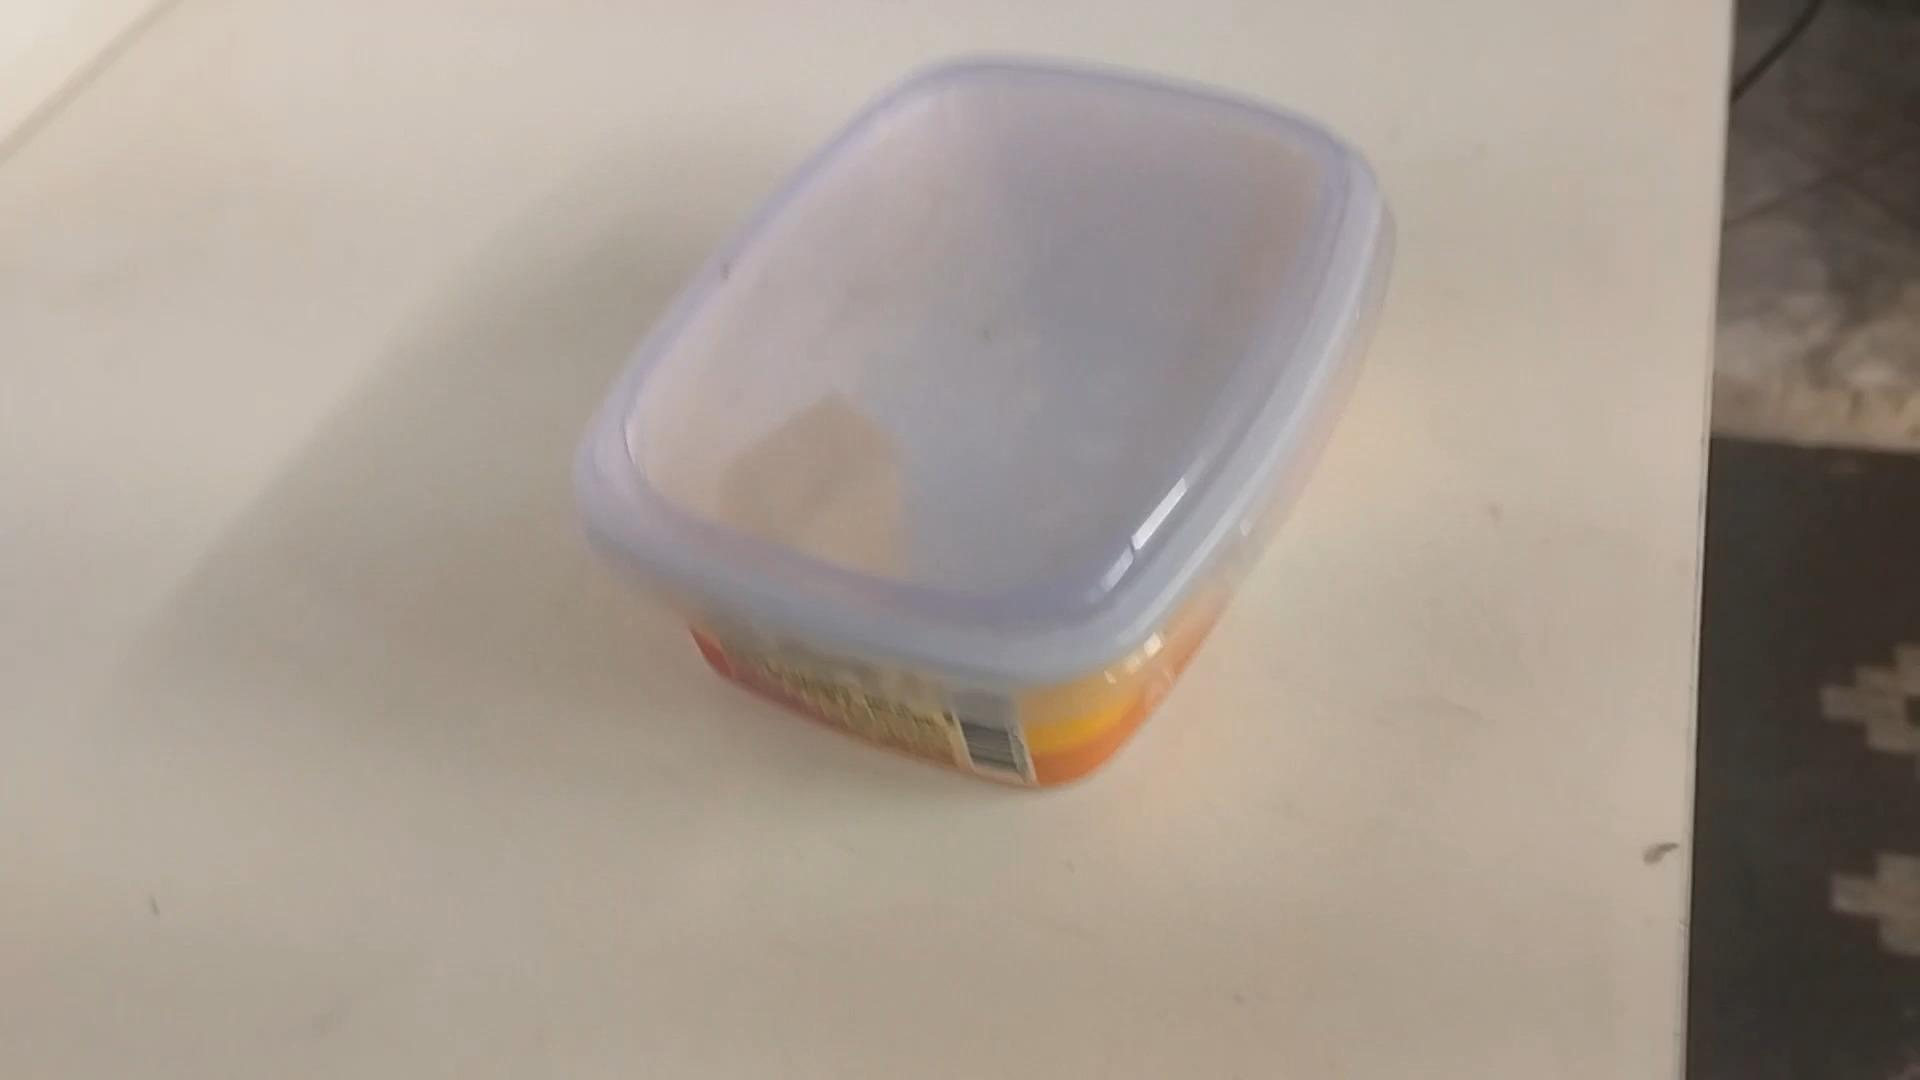butter: (570, 51, 1382, 786)
